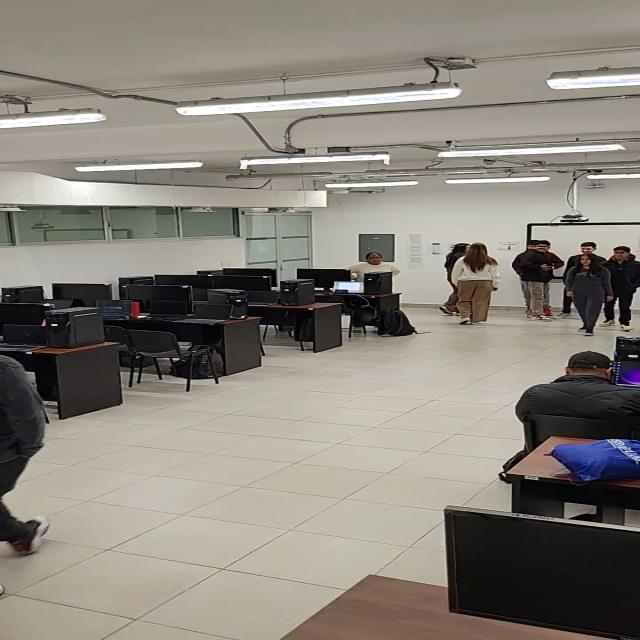Persona: (561, 247, 610, 335), (452, 240, 498, 325), (518, 238, 558, 319), (604, 244, 640, 330)
